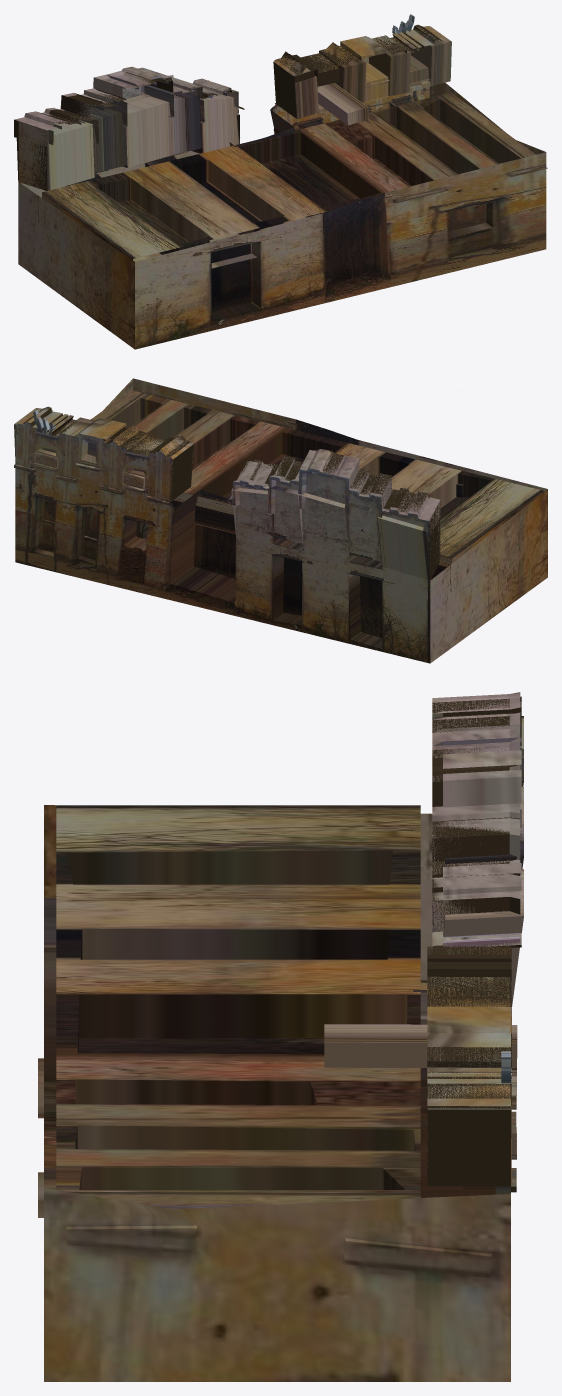
Rendered from hotel.fbx.
3 views of the same model, one above another, from view 1: azimuth 30°, elevation 25°; view 2: azimuth 150°, elevation 25°; view 3: azimuth 270°, elevation 25° (orthographic). The views are drawn at different scales.
Parts seen in each view (by area): view 1: Cubo; view 2: Cubo; view 3: Cubo.
Part boxes in pixels (x1,y1,x2,y2): Cubo: (14,14,547,349); Cubo: (14,378,547,663); Cubo: (38,692,523,1381).
Size of the model in its own units: 1046 by 409 by 529.
